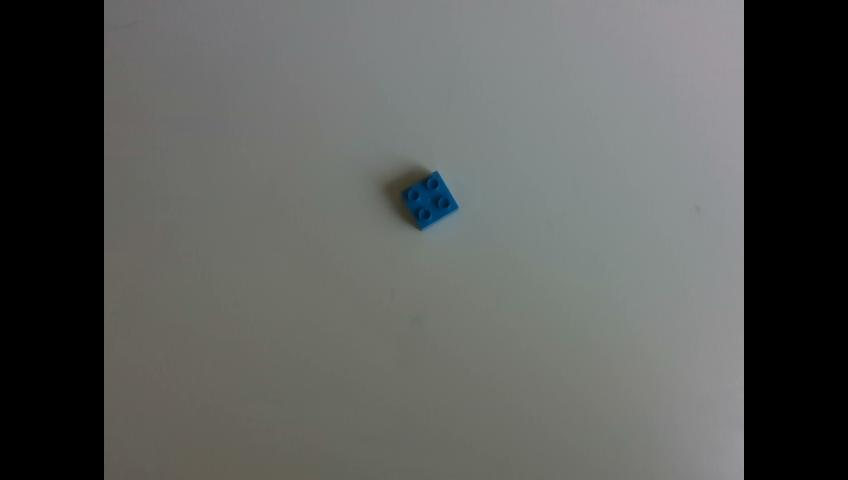2x2_blue: (404, 170, 459, 228)
